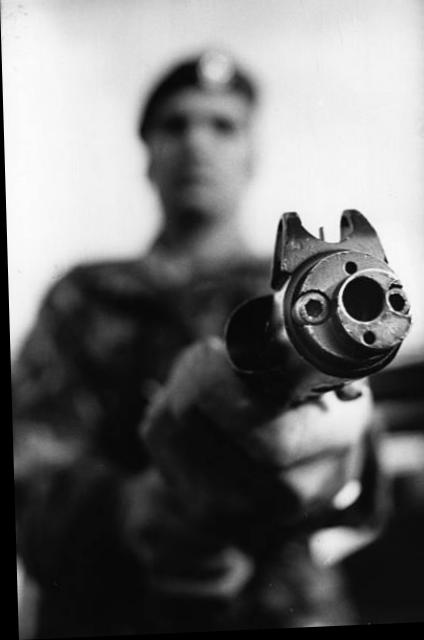other: (34, 61, 369, 615)
